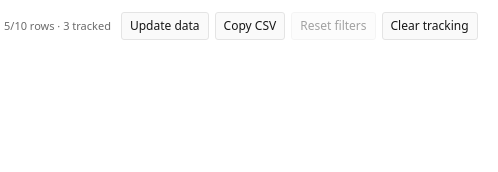
Test: ToolbarActions › wipes on the confirming second click
The image size is (498, 172).
Click the button "Clear tracking".
click(430, 26)  # box [382,12,478,40]
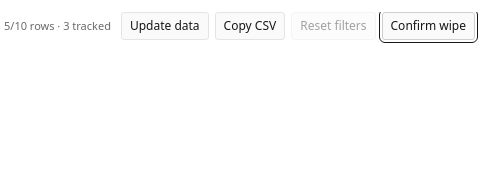
Click the button "Confirm wipe".
click(428, 26)  # box [382,12,475,40]
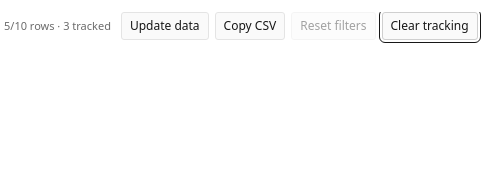
Check: the button "Clear tracking" is shown, box [382,12,478,40]
